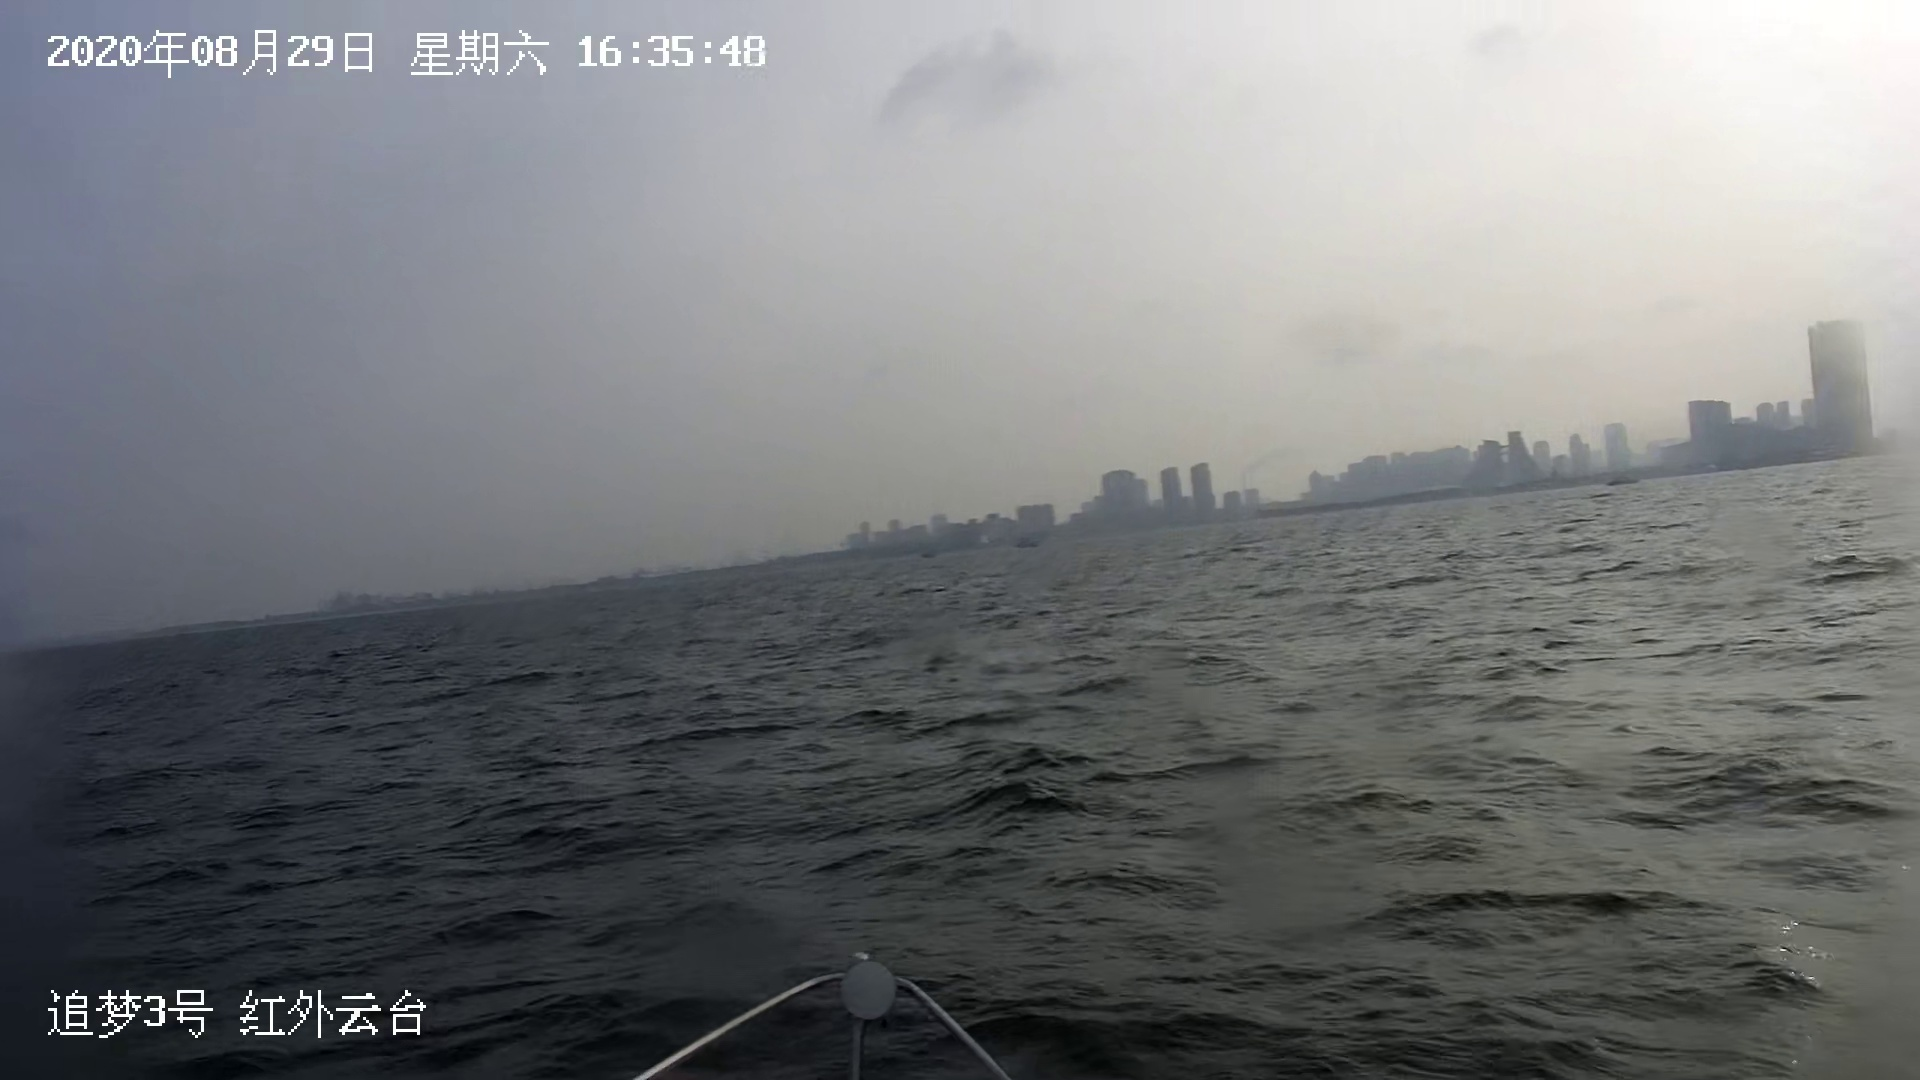coast: (67, 315, 1895, 659)
